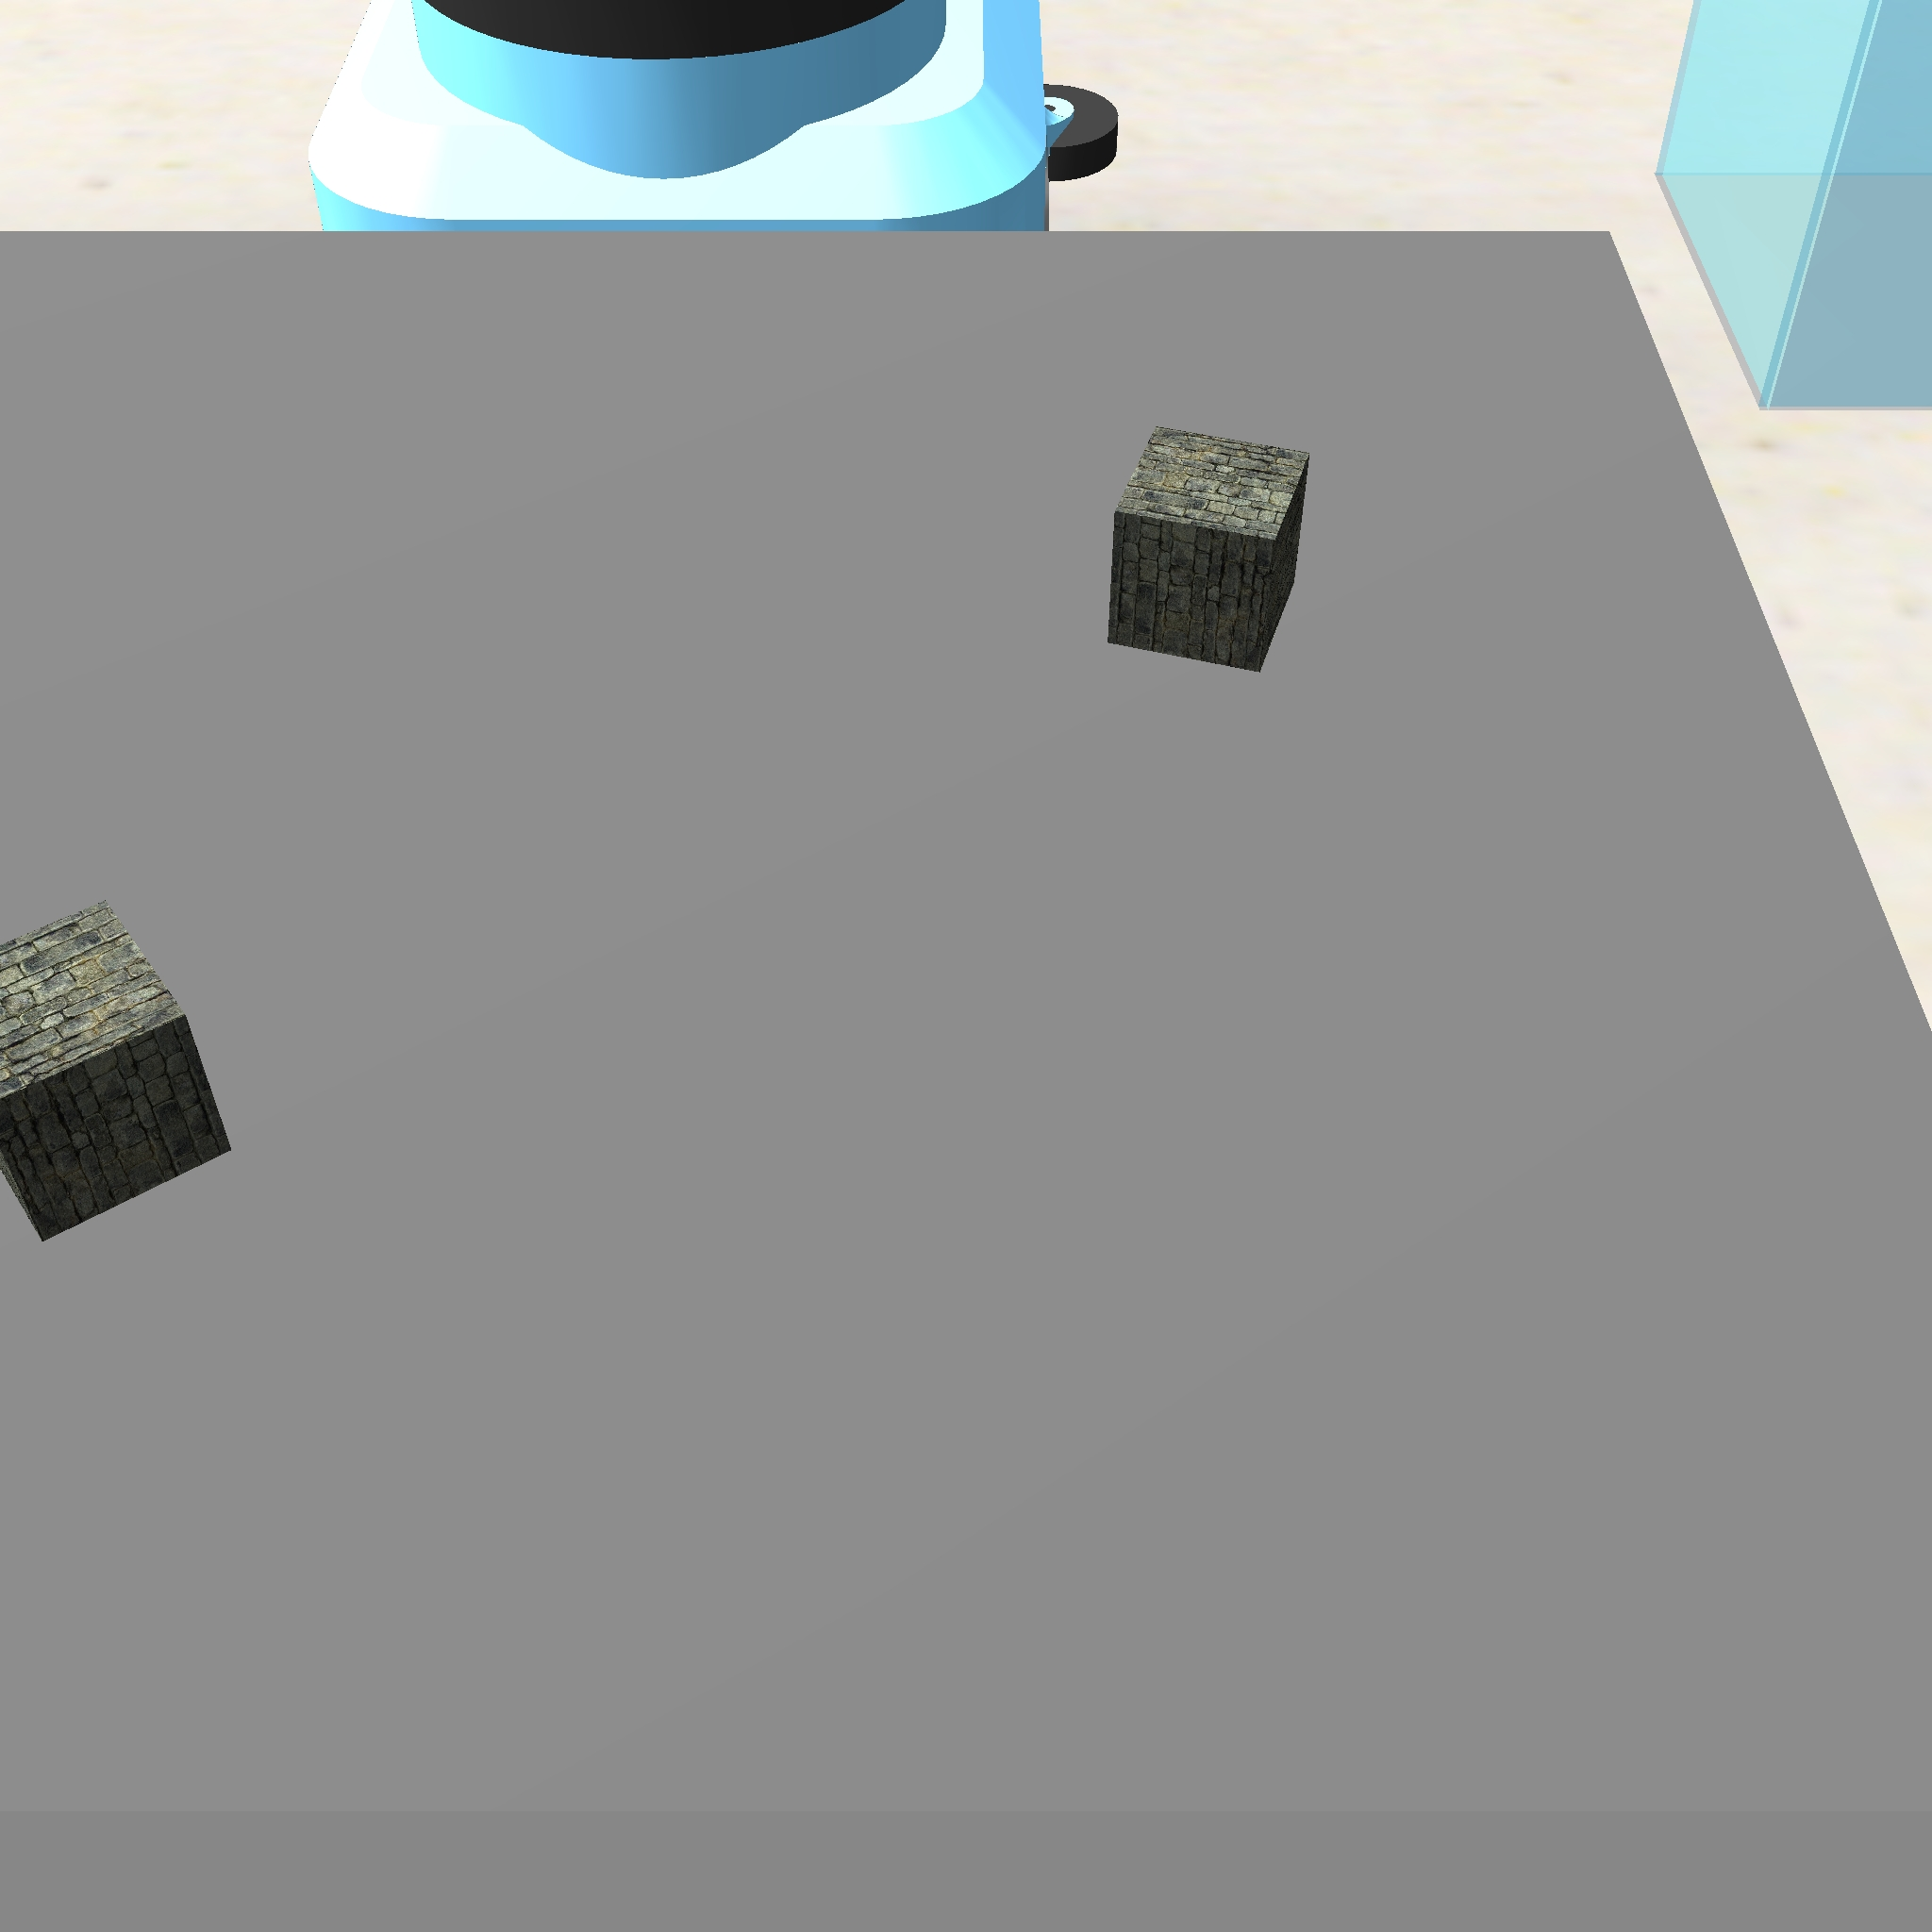cube: (0, 890, 237, 1253), (1099, 419, 1315, 685)
